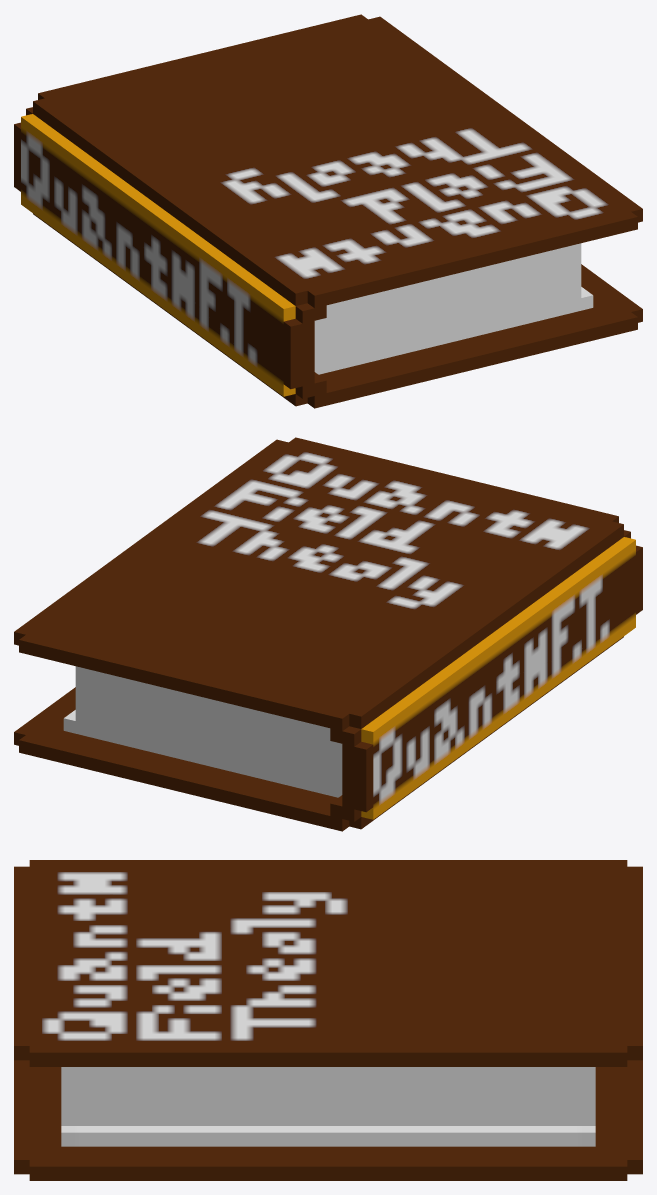
The model's file is book_quantumfieldtheory.dae.
The picture shows the model from 3 angles, top to bottom: view 1: azimuth 30°, elevation 25°; view 2: azimuth 150°, elevation 25°; view 3: azimuth 270°, elevation 25°; orthographic projection. The views are drawn at different scales.
Visible parts, largest first — view 1: pl0; view 2: pl0; view 3: pl0.
Boxes of the visible parts, <box> form: pl0: <box>14,14,642,408</box>; pl0: <box>14,437,642,831</box>; pl0: <box>14,860,642,1180</box>.
Size of the model in its own units: 30 by 40 by 9.
